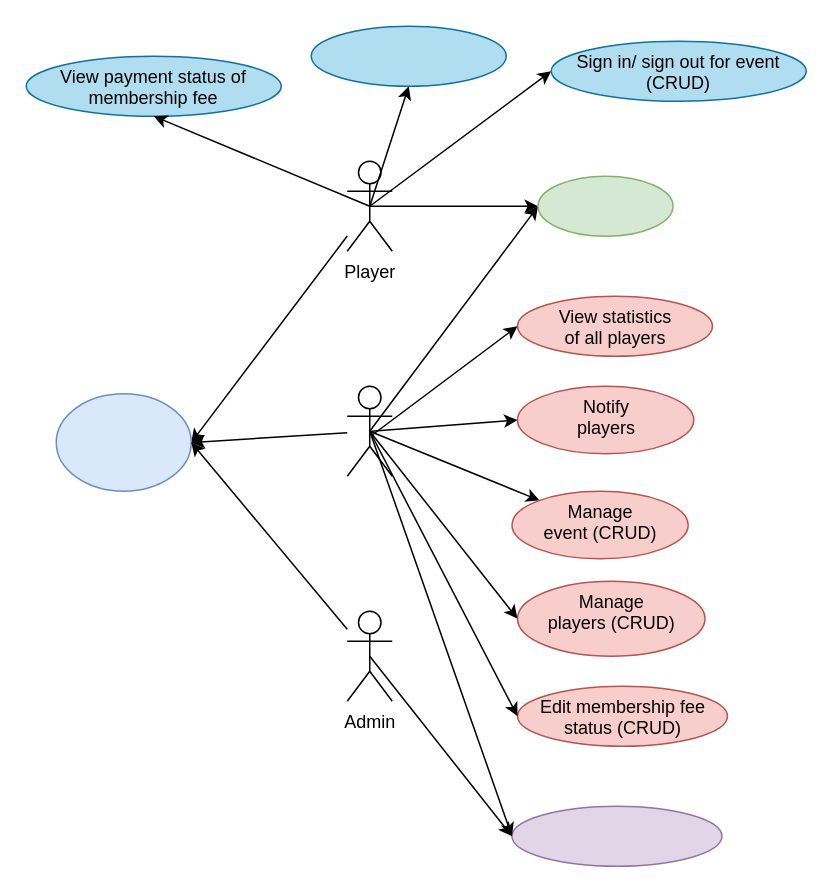
This 833x893 diagram has some shape labels left out. Here are the shapes that lost their labels. From the top down, the box of each, then its label:
(310, 25, 506, 86): View statistics of its events
(537, 175, 673, 236): Sign in to application
(55, 392, 191, 491): Log in / log out to application
(346, 385, 392, 476): Coach
(510, 805, 722, 866): Manage account (CRUD)
